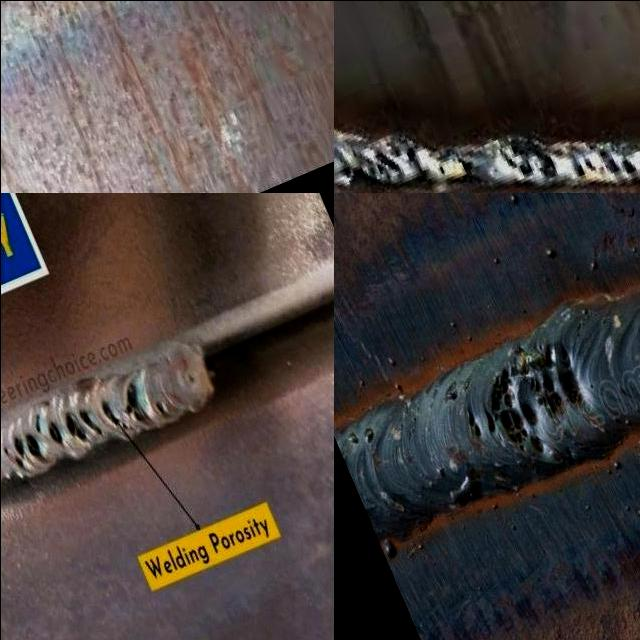defect: (483, 366, 550, 453), (527, 338, 585, 414), (500, 132, 560, 184), (357, 139, 422, 181), (571, 150, 639, 185), (10, 410, 50, 469), (123, 378, 149, 424), (98, 396, 132, 431), (65, 411, 87, 442), (333, 155, 355, 185), (451, 151, 477, 175), (79, 408, 102, 434), (465, 404, 481, 437), (47, 418, 63, 445), (153, 398, 169, 416), (437, 162, 448, 176), (4, 446, 9, 455)
